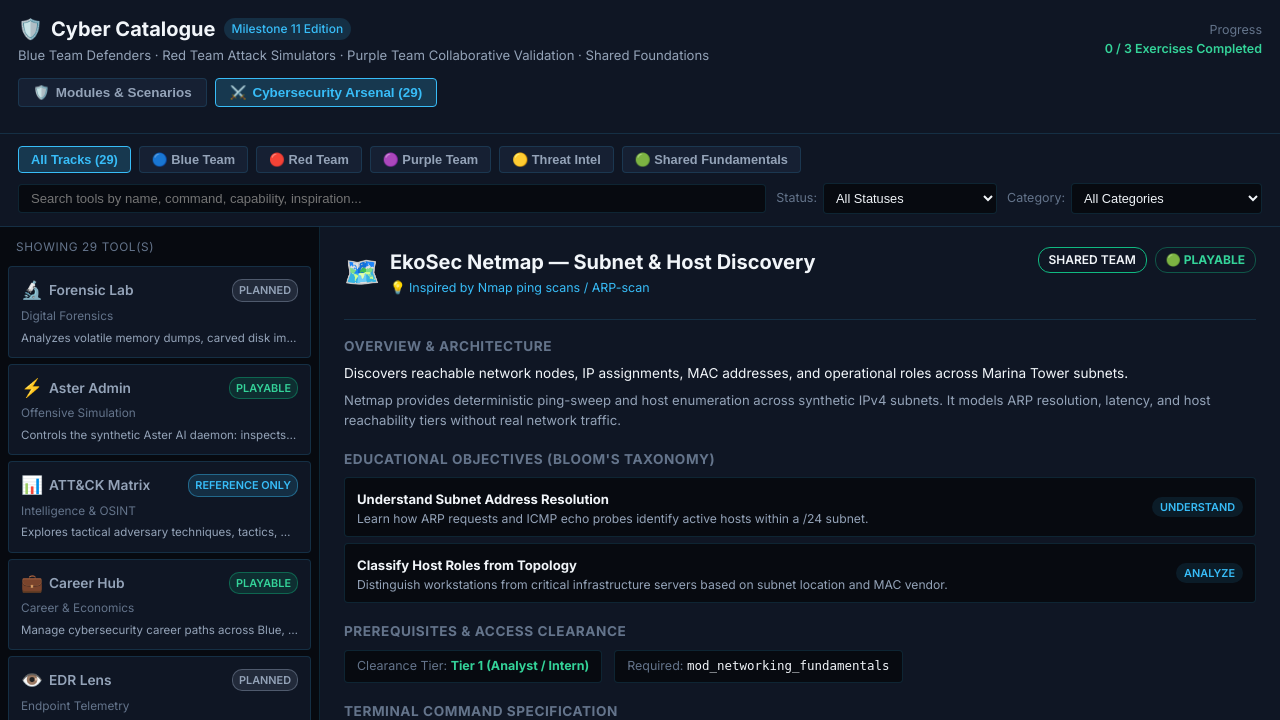
Test: CyberCatalogueApp & CyberArsenalView Integration › filters arsenal tools by text search query
This screenshot has width=1280, height=720.
Type "Wireshark" into the field with test id "arsenal-search-input" at (392, 198), box [18,184,766,213]
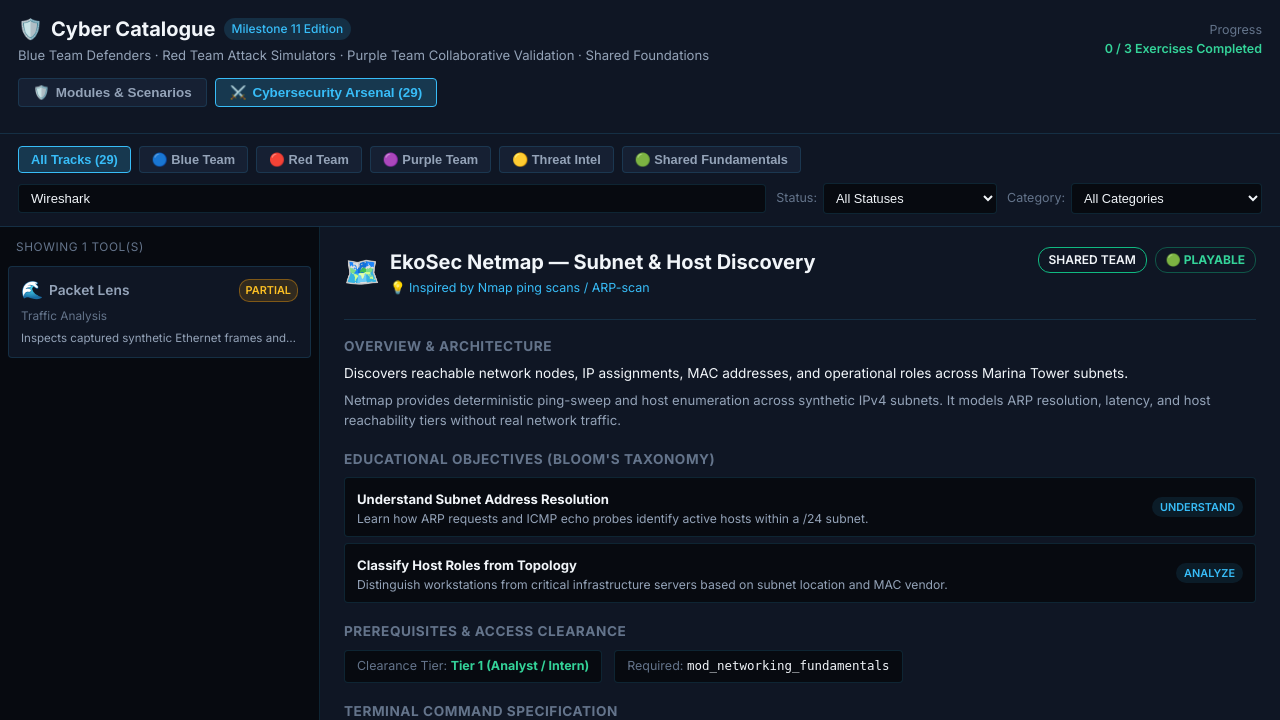
Expected: the button with test id "tool-item-tool_packet_lens" is shown, [8,266,311,358]
